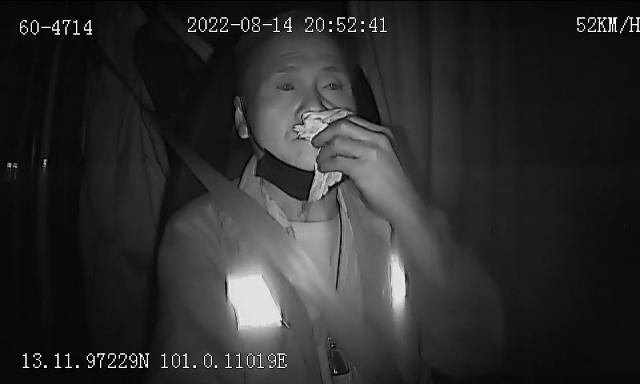SafeDriving: (270, 72, 304, 98), (316, 73, 348, 95)
Seatbelt: (154, 119, 403, 384)
